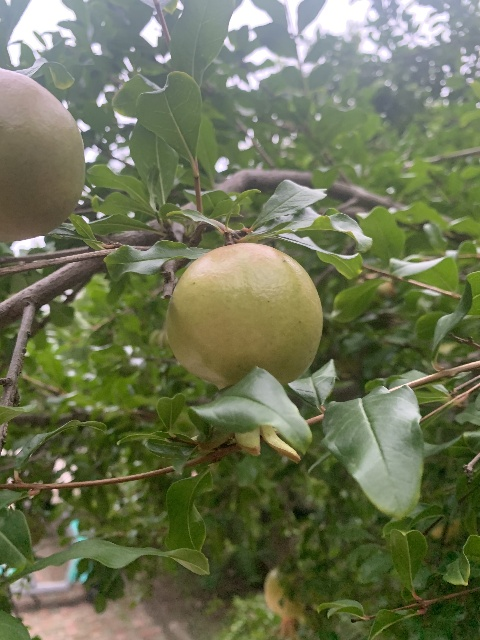mid-growth: (163, 241, 324, 463), (263, 566, 305, 639)
